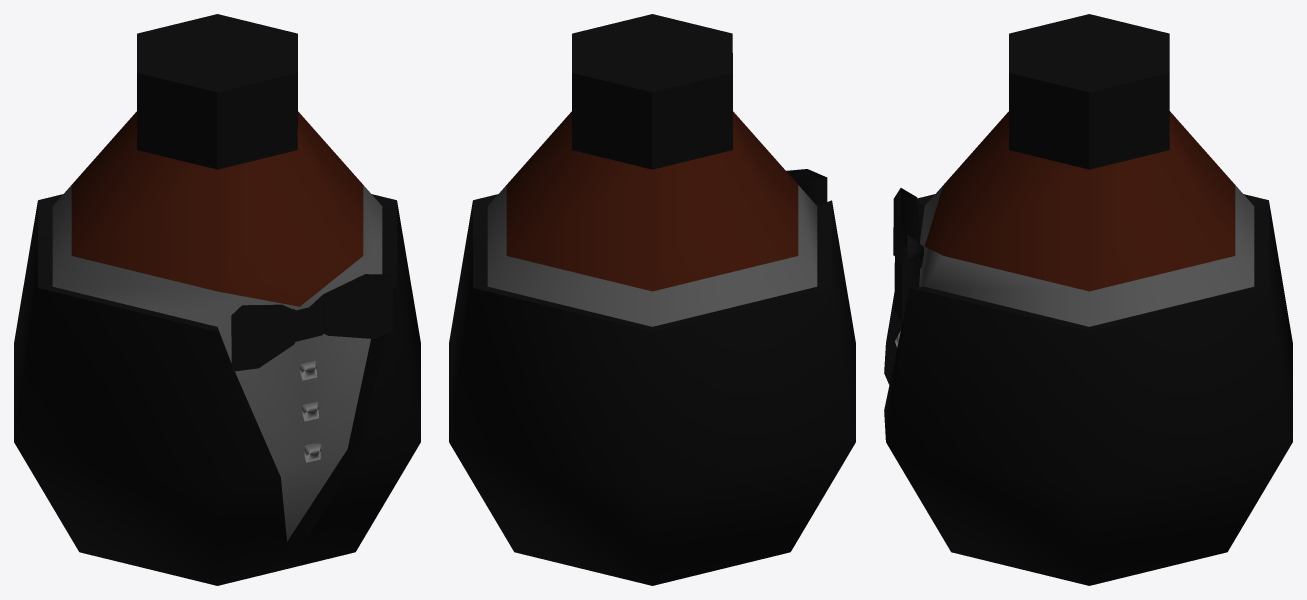
File: grenade_Merc.glb
3 views of the same model, side by side, from view 1: azimuth 30°, elevation 25°; view 2: azimuth 150°, elevation 25°; view 3: azimuth 270°, elevation 25° (orthographic).
Parts seen in each view (by area): view 1: grenade_Merc; view 2: grenade_Merc; view 3: grenade_Merc.
Boxes of the visible parts, box(x1,y1,x2,y2) form: grenade_Merc: box(14, 14, 420, 585); grenade_Merc: box(449, 14, 855, 585); grenade_Merc: box(884, 14, 1292, 585).
Size of the model in its own units: 0.1322 by 0.1598 by 0.115.
